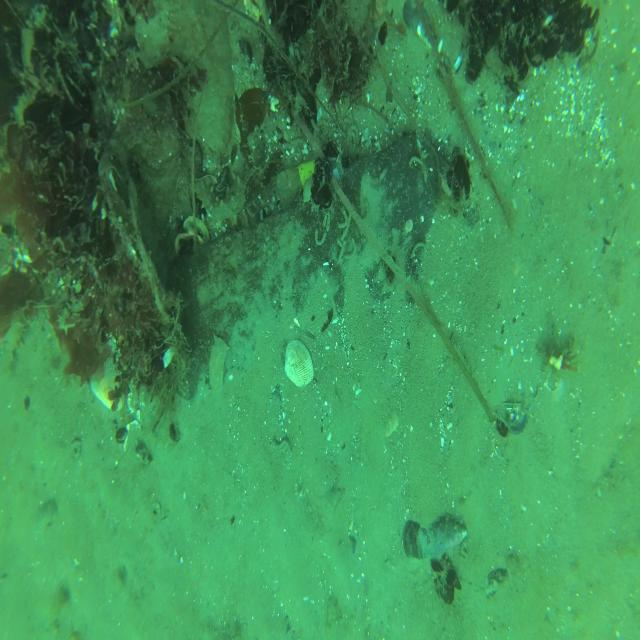scallop: (284, 336, 313, 388)
